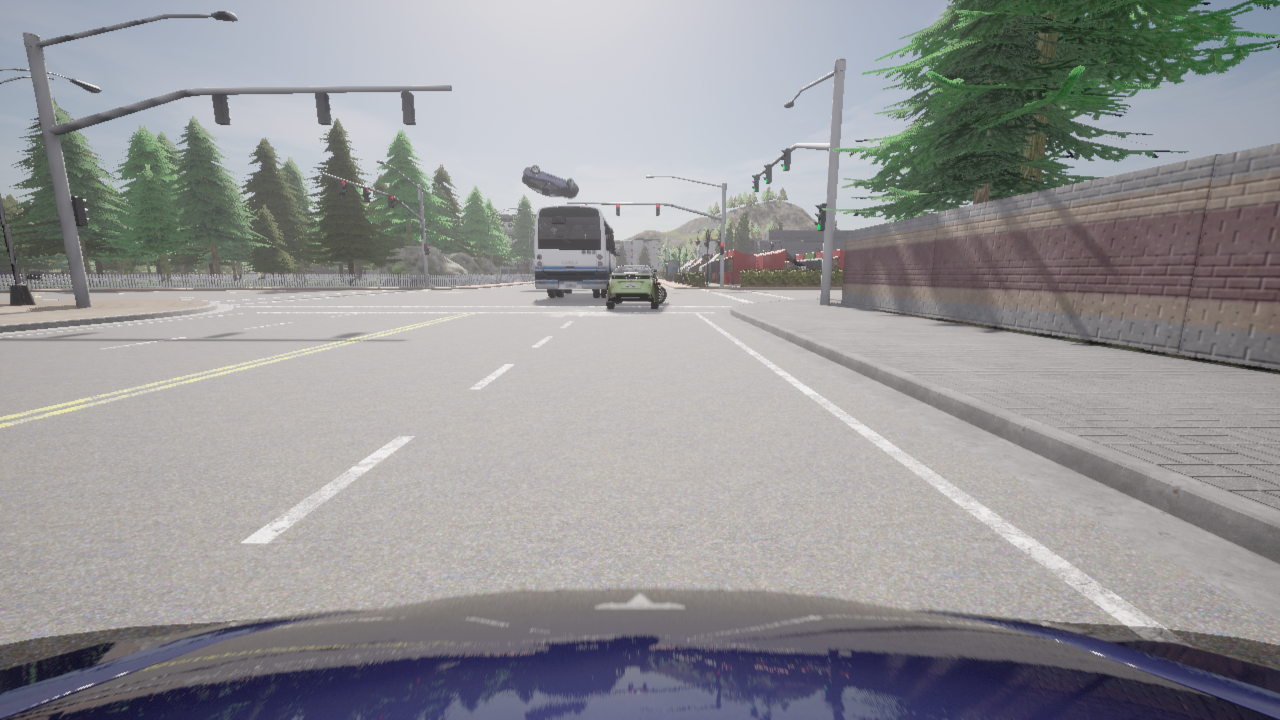cyclist: (0, 588, 1279, 719), (534, 204, 619, 297), (606, 265, 666, 308), (521, 165, 578, 198), (654, 269, 658, 276)
